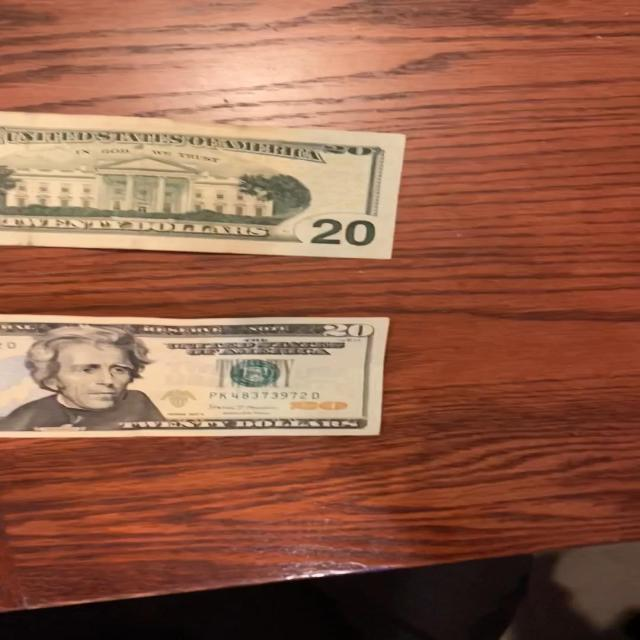20-Back: (0, 107, 414, 271)
20-Front: (0, 304, 406, 448)
